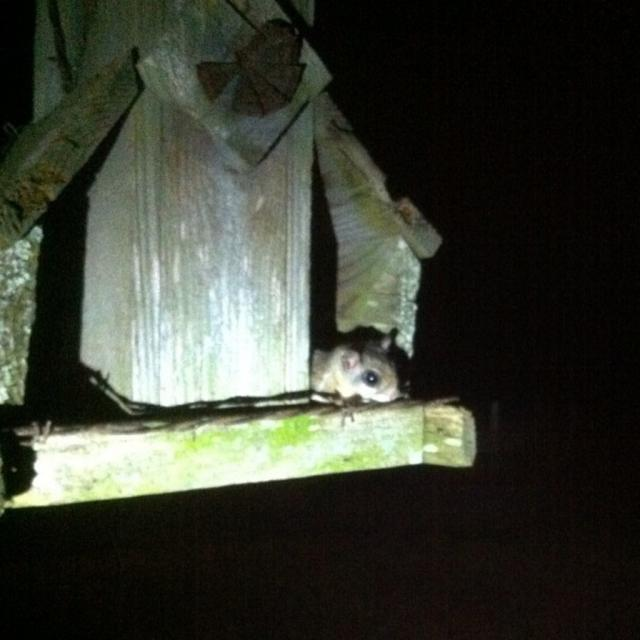rat: (308, 338, 402, 424)
